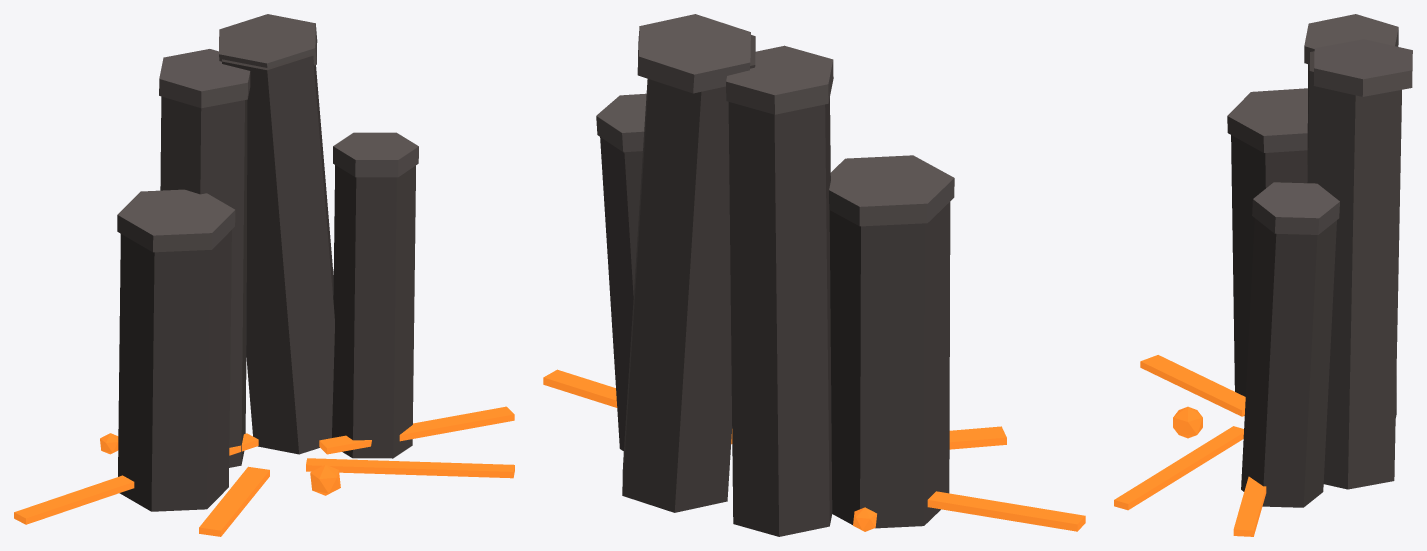
File: runtime.glb
3 renders of one model, left to right at view 1: azimuth 30°, elevation 25°; view 2: azimuth 150°, elevation 25°; view 3: azimuth 270°, elevation 25°, orthographic. The views are drawn at different scales.
Visible parts, largest first — view 1: magma_outcrop_basalt_nocol, magma_outcrop_cap_noshadow_nocol, magma_outcrop_lava_noshadow_nocol; view 2: magma_outcrop_basalt_nocol, magma_outcrop_cap_noshadow_nocol, magma_outcrop_lava_noshadow_nocol; view 3: magma_outcrop_basalt_nocol, magma_outcrop_cap_noshadow_nocol, magma_outcrop_lava_noshadow_nocol.
Part boxes in pixels (left/top/right/bottom): magma_outcrop_basalt_nocol: left=118, top=53, right=415, bottom=511; magma_outcrop_cap_noshadow_nocol: left=117, top=14, right=418, bottom=252; magma_outcrop_lava_noshadow_nocol: left=14, top=406, right=514, bottom=536; magma_outcrop_basalt_nocol: left=600, top=35, right=950, bottom=536; magma_outcrop_cap_noshadow_nocol: left=596, top=14, right=954, bottom=226; magma_outcrop_lava_noshadow_nocol: left=543, top=369, right=1085, bottom=531; magma_outcrop_basalt_nocol: left=1231, top=51, right=1401, bottom=507; magma_outcrop_cap_noshadow_nocol: left=1227, top=14, right=1412, bottom=234; magma_outcrop_lava_noshadow_nocol: left=1114, top=355, right=1266, bottom=536.
Size of the model in its own units: 4.74 by 3.8 by 2.53.
